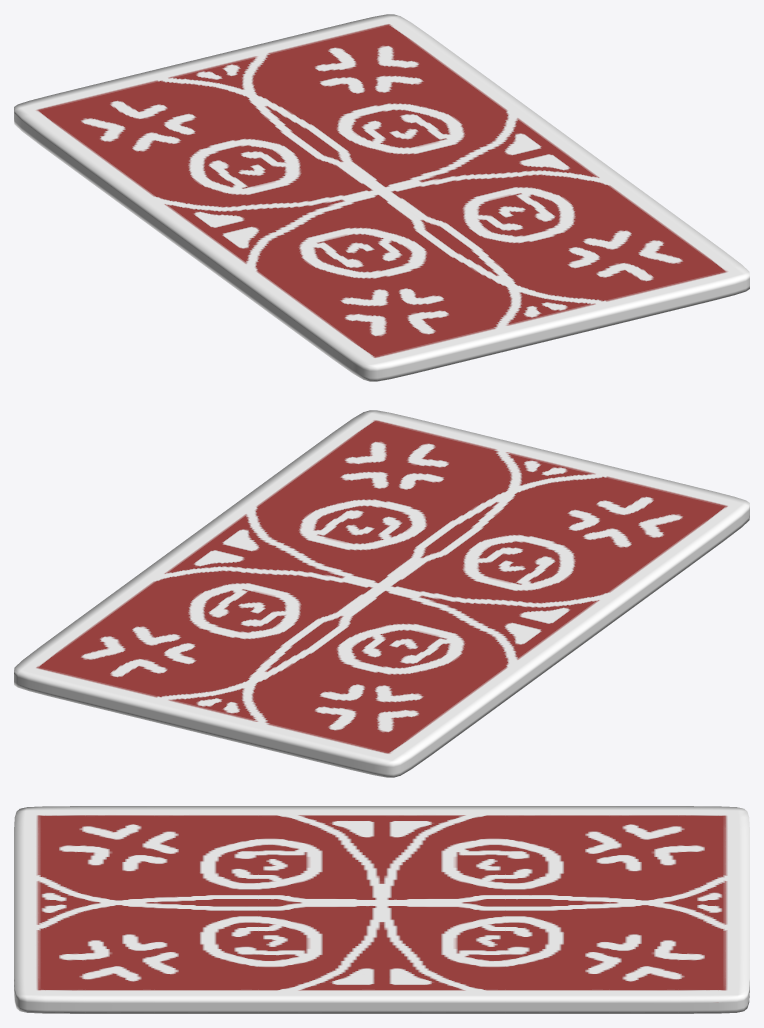
File: SharkSimplePlayingCard.gltf
3 renders of one model, top to bottom at view 1: azimuth 30°, elevation 25°; view 2: azimuth 150°, elevation 25°; view 3: azimuth 270°, elevation 25°, orthographic.
Visible parts, largest first — view 1: Cube; view 2: Cube; view 3: Cube.
Part boxes in pixels (bbox=[...]): Cube: bbox=[14, 14, 749, 381]; Cube: bbox=[14, 410, 749, 777]; Cube: bbox=[14, 806, 749, 1013].
Bounding box in the file's own units: 2 × 0.0684 × 3.21.
Materials: 1 (1 with a texture image).
